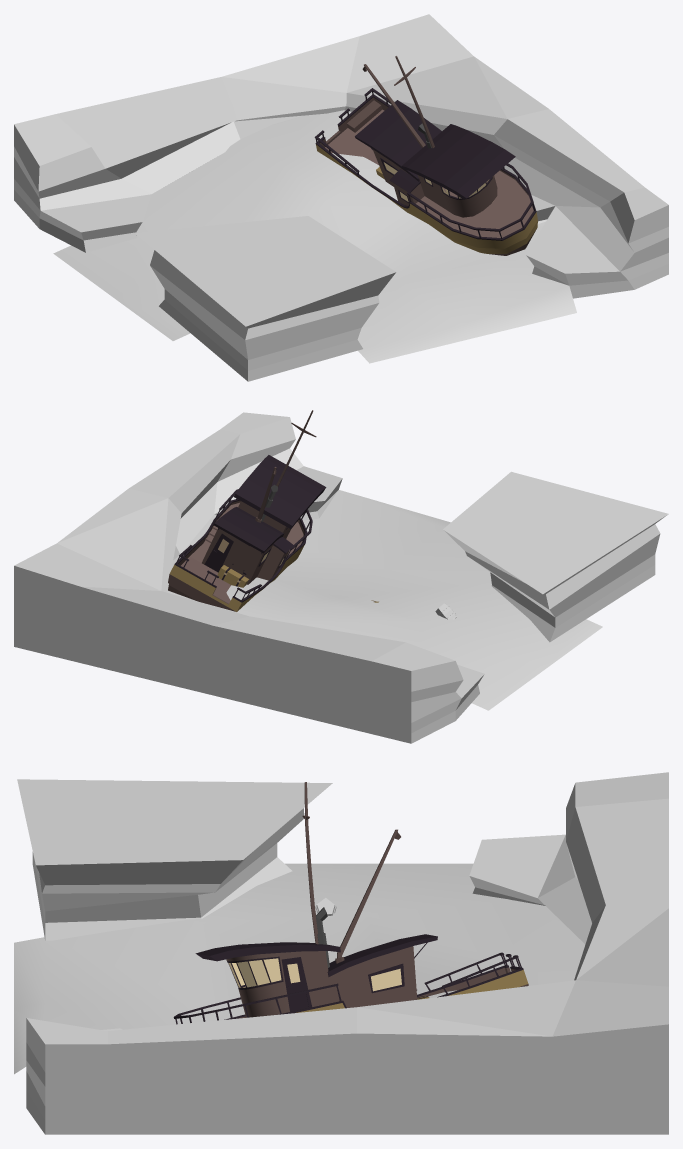
Rendered from UnderWaterRoom4_a2.glb.
3 renders of one model, top to bottom at view 1: azimuth 30°, elevation 25°; view 2: azimuth 150°, elevation 25°; view 3: azimuth 270°, elevation 25°, orthographic. The views are drawn at different scales.
Parts seen in each view (by area): view 1: Rock.004, SeaFloor.004, Boat_Body; view 2: Rock.004, SeaFloor.004, Boat_Body, Boat_Door2; view 3: Rock.004, SeaFloor.004, Boat_Body, Boat_Door1.
Part boxes in pixels (x1,y1,x2,y2): Rock.004: (14,14,668,381); SeaFloor.004: (53,110,576,363); Boat_Body: (314,56,537,255); Rock.004: (14,412,668,743); SeaFloor.004: (167,490,602,710); Boat_Body: (168,410,326,611); Boat_Door2: (204,533,233,572); Rock.004: (17,772,668,1134); SeaFloor.004: (14,863,585,1074); Boat_Body: (173,782,528,1024); Boat_Door1: (281,957,311,1011).
Bounding box in the file's own units: 21 × 9.54 × 21.
